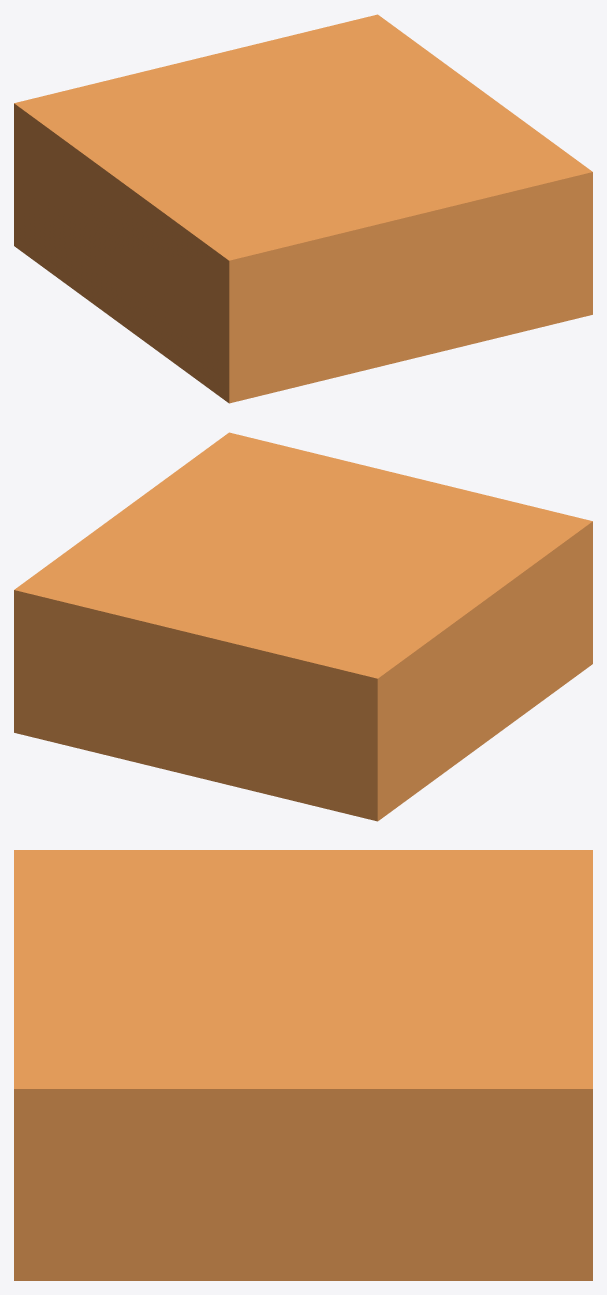
Rendered from TrashBT_fitPart.fbx.
3 renders of one model, top to bottom at view 1: azimuth 30°, elevation 25°; view 2: azimuth 150°, elevation 25°; view 3: azimuth 270°, elevation 25°, orthographic. The views are drawn at different scales.
Visible parts, largest first — view 1: Plane.001; view 2: Plane.001; view 3: Plane.001.
Boxes of the visible parts, <box> form: Plane.001: <box>14,14,592,403</box>; Plane.001: <box>14,432,592,821</box>; Plane.001: <box>14,850,592,1280</box>.
Bounding box in the file's own units: 80 × 30 × 81.95.
